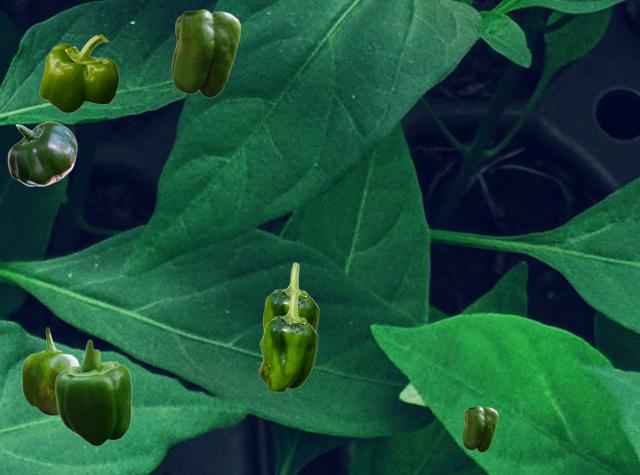bell_pepper: (54, 339, 131, 446), (39, 34, 118, 112), (171, 9, 240, 97), (258, 289, 317, 391), (259, 262, 318, 350), (21, 327, 79, 415), (7, 121, 76, 185), (462, 406, 497, 451)
